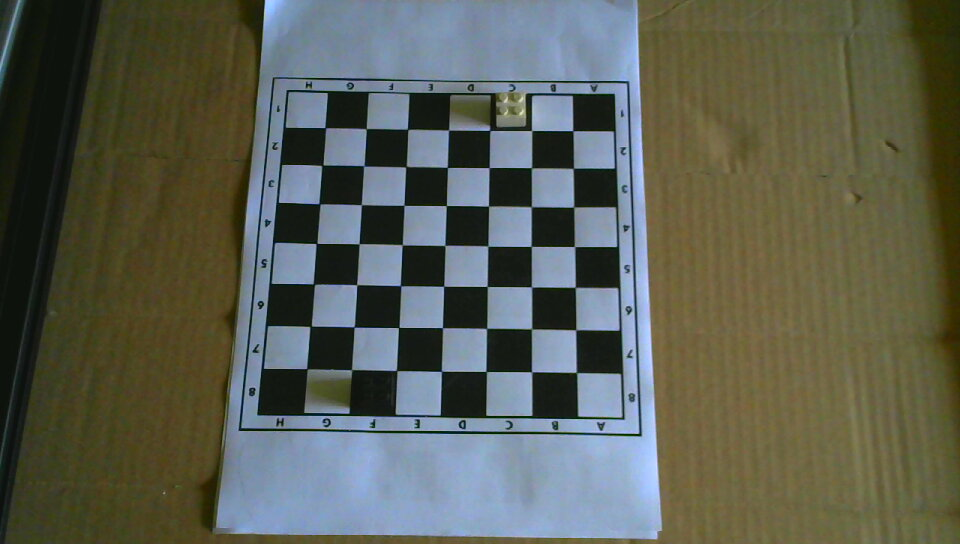bp: (358, 373, 395, 413)
wp: (494, 90, 527, 128)
